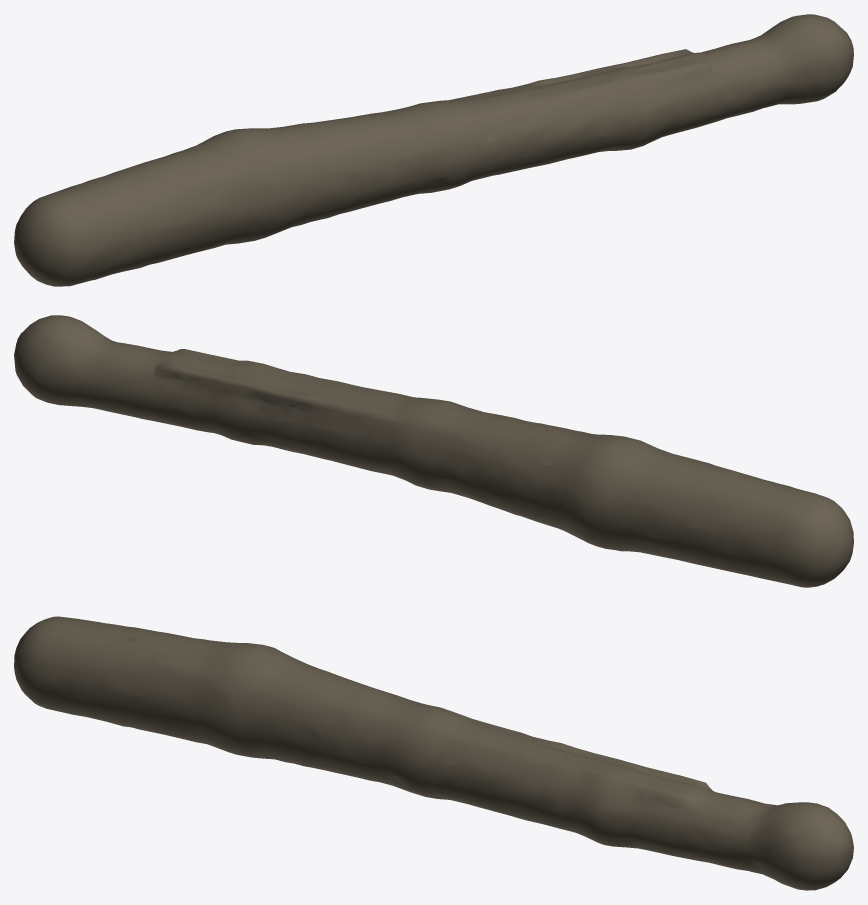
The model's file is wa_arm_a.glb.
3 views of the same model, one above another, from view 1: azimuth 30°, elevation 25°; view 2: azimuth 150°, elevation 25°; view 3: azimuth 330°, elevation 25° (orthographic).
Visible parts, largest first — view 1: oberarm; view 2: oberarm; view 3: oberarm.
Boxes of the visible parts, x1,y1,x2,y2 form: oberarm: [14, 14, 853, 286]; oberarm: [14, 315, 853, 587]; oberarm: [14, 616, 853, 890].
Size of the model in its own units: 0.6108 by 0.0721 by 0.0732.
